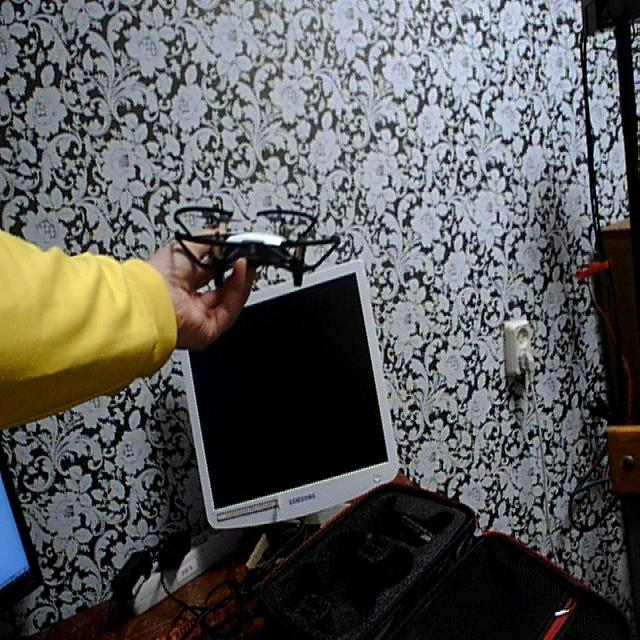drone: (165, 178, 348, 301)
